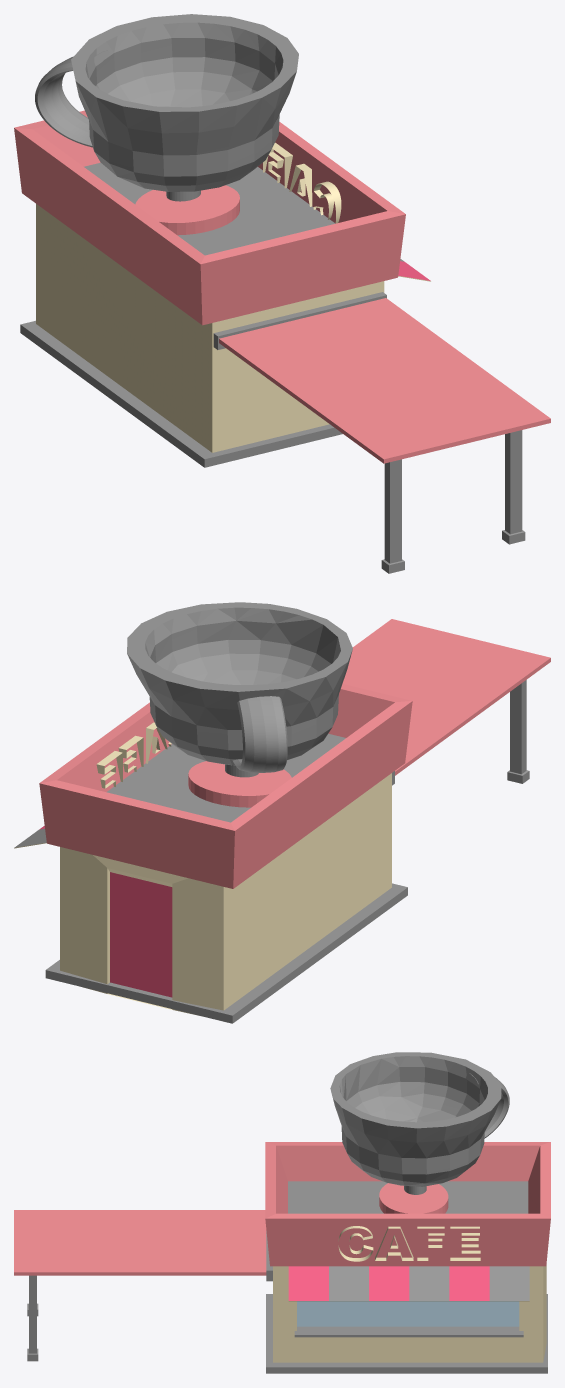
Rendered from cafe.glb.
3 views of the same model, one above another, from view 1: azimuth 30°, elevation 25°; view 2: azimuth 150°, elevation 25°; view 3: azimuth 270°, elevation 25° (orthographic). The views are drawn at different scales.
Parts seen in each view (by area): view 1: F_2; view 2: F_2; view 3: F_2.
Part boxes in pixels (x1,y1,x2,y2): F_2: (14,14,550,573); F_2: (14,602,550,1023); F_2: (14,1052,550,1373).
Bounding box in the file's own units: 1.65 × 1.88 × 3.79.
